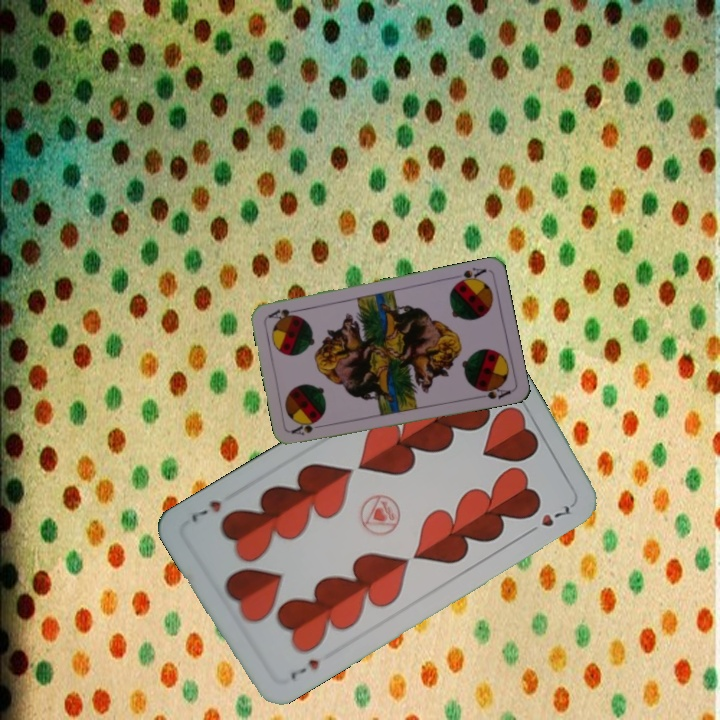H7: (286, 655, 322, 682)
SA: (451, 263, 489, 287), (288, 418, 328, 438)
